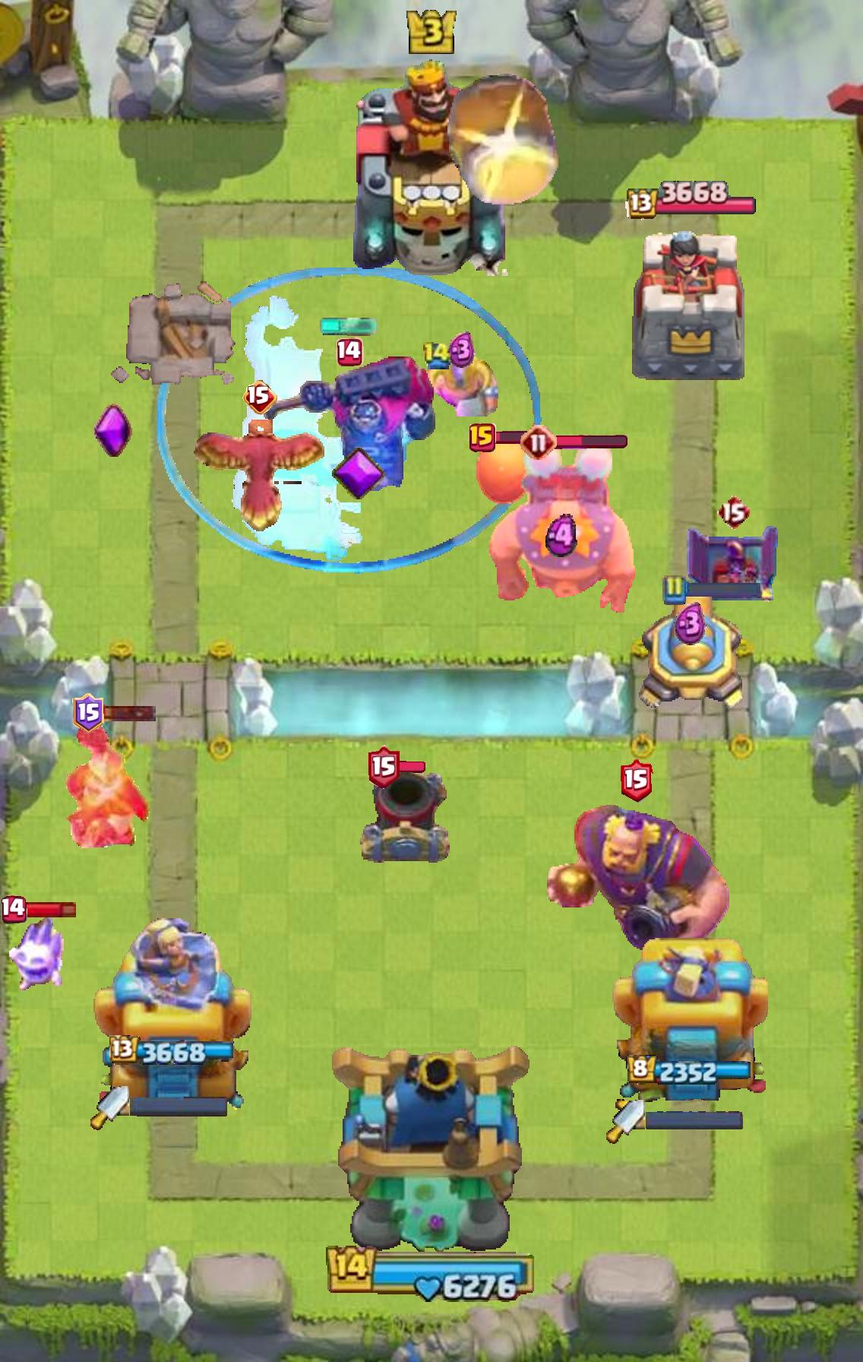bar: (553, 435, 627, 450), (24, 900, 77, 920), (100, 704, 156, 722), (492, 431, 544, 445), (397, 761, 427, 773)
bar-level: (620, 759, 653, 804), (368, 745, 400, 789), (520, 424, 557, 461), (72, 693, 104, 733), (716, 493, 750, 530), (242, 380, 277, 415), (335, 336, 364, 366), (469, 423, 496, 452), (2, 895, 27, 924)
